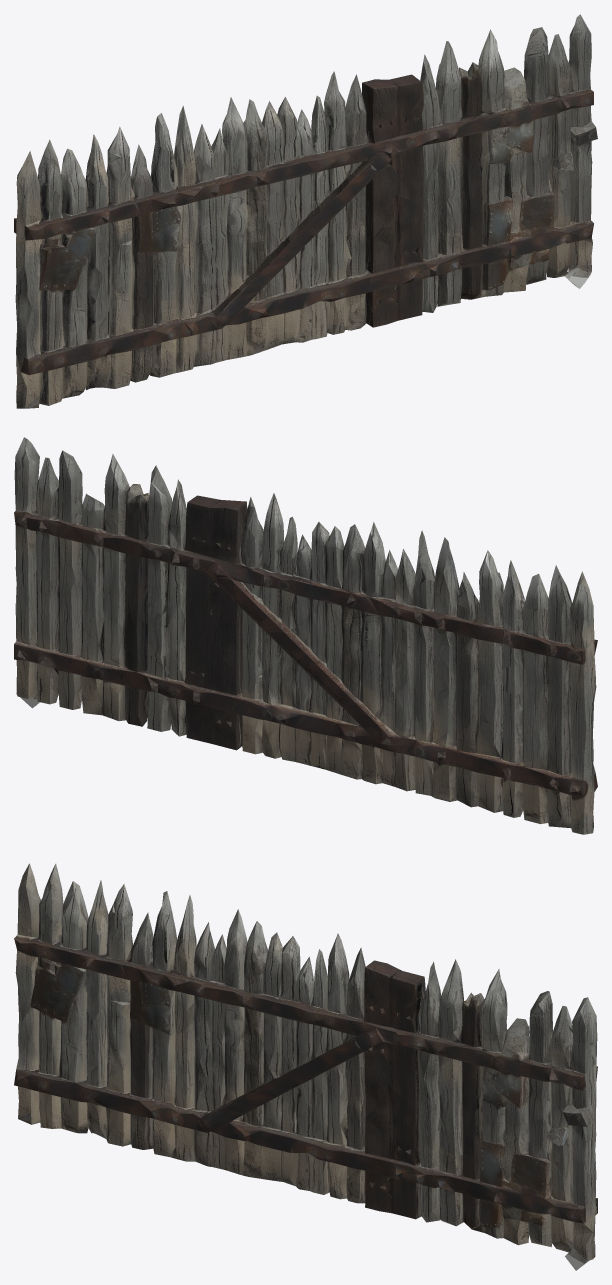
Rendered from palisade_c.glb.
The picture shows the model from 3 angles, top to bottom: view 1: azimuth 30°, elevation 25°; view 2: azimuth 150°, elevation 25°; view 3: azimuth 330°, elevation 25°; orthographic projection.
Parts seen in each view (by area): view 1: mesh_node; view 2: mesh_node; view 3: mesh_node.
Boxes of the visible parts, x1,y1,x2,y2 form: mesh_node: (14,14,597,408); mesh_node: (14,437,597,834); mesh_node: (14,863,597,1270).
Bounding box in the file's own units: 1.9 × 0.8697 × 0.1271.
Materials: 1 (1 with a texture image).
